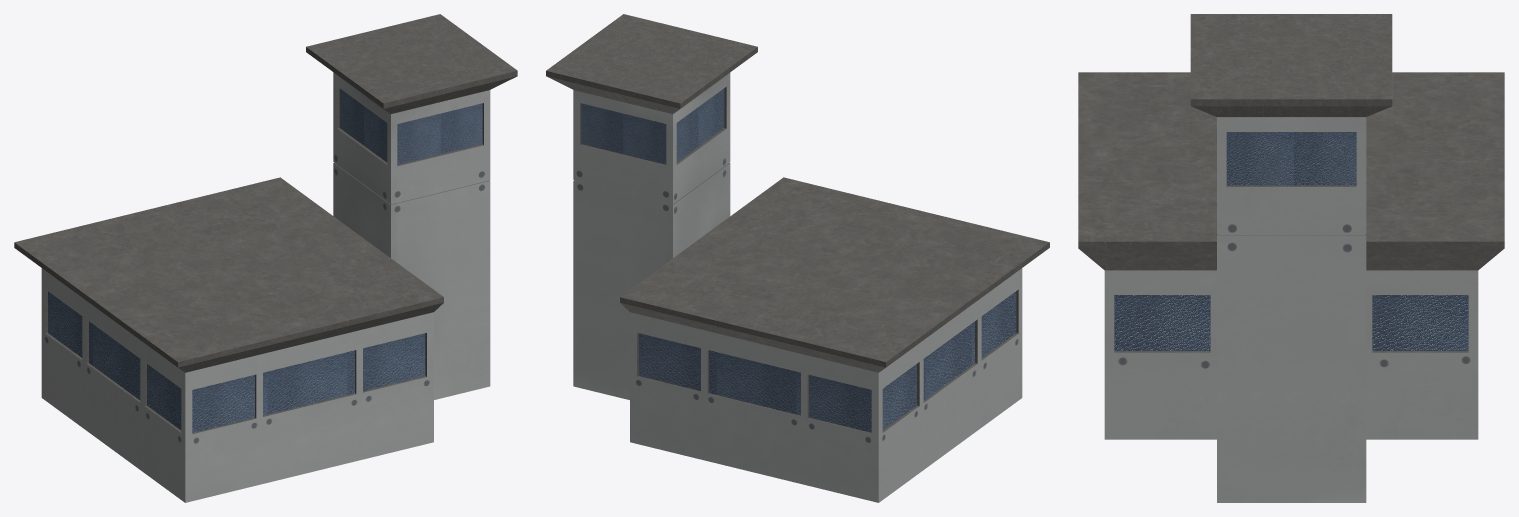
The model's file is Escritório.fbx.
The picture shows the model from 3 angles, left to right: view 1: azimuth 30°, elevation 25°; view 2: azimuth 150°, elevation 25°; view 3: azimuth 270°, elevation 25°; orthographic projection. The views are drawn at different scales.
Visible parts, largest first — view 1: Princiapl, Torre; view 2: Princiapl, Torre; view 3: Princiapl, Torre.
Part boxes in pixels (x1,y1,x2,y2): Princiapl: (14, 177, 443, 502); Torre: (306, 14, 517, 399); Princiapl: (620, 177, 1049, 502); Torre: (546, 14, 757, 399); Princiapl: (1078, 72, 1504, 439); Torre: (1190, 14, 1392, 502).
Bounding box in the file's own units: 76.98 × 61.21 × 56.99.
Materials: 2 (2 with a texture image).
